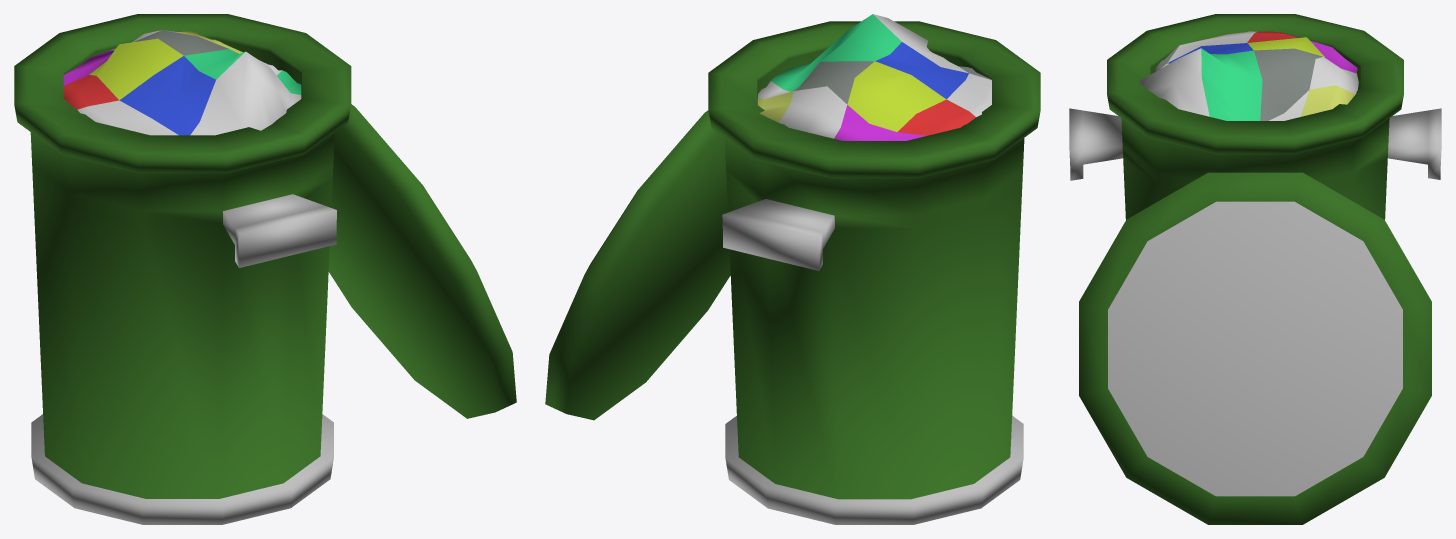
Rendered from trash.fbx.
3 renders of one model, left to right at view 1: azimuth 30°, elevation 25°; view 2: azimuth 150°, elevation 25°; view 3: azimuth 270°, elevation 25°, orthographic. The views are drawn at different scales.
Visible parts, largest first — view 1: Circle.002; view 2: Circle.002; view 3: Circle.002.
Part boxes in pixels (x1,y1,x2,y2): Circle.002: (14,14,516,524); Circle.002: (545,14,1040,524); Circle.002: (1069,14,1441,524).
Bounding box in the file's own units: 3.52 × 3.37 × 3.03.
